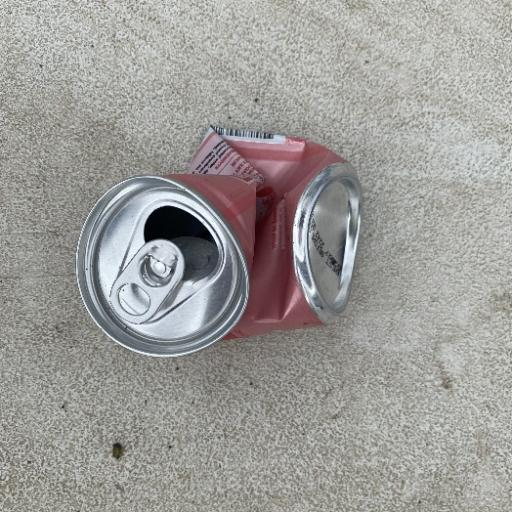Metal: (74, 122, 366, 360)
